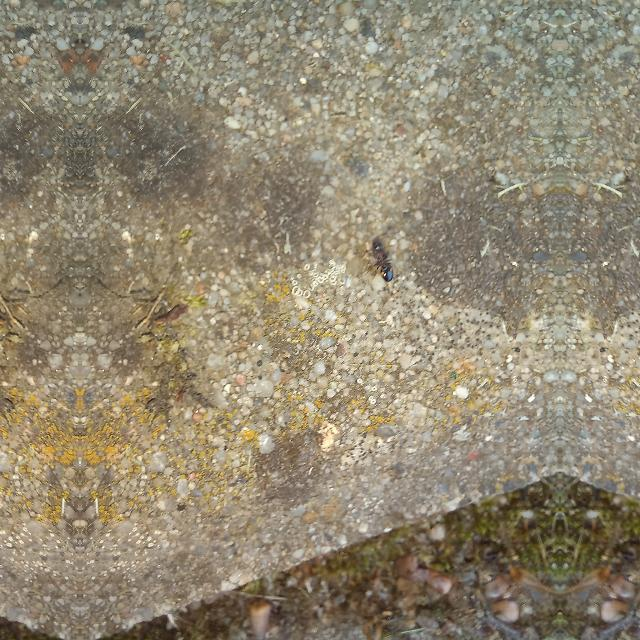Dolichoderus: (367, 237, 397, 289)
